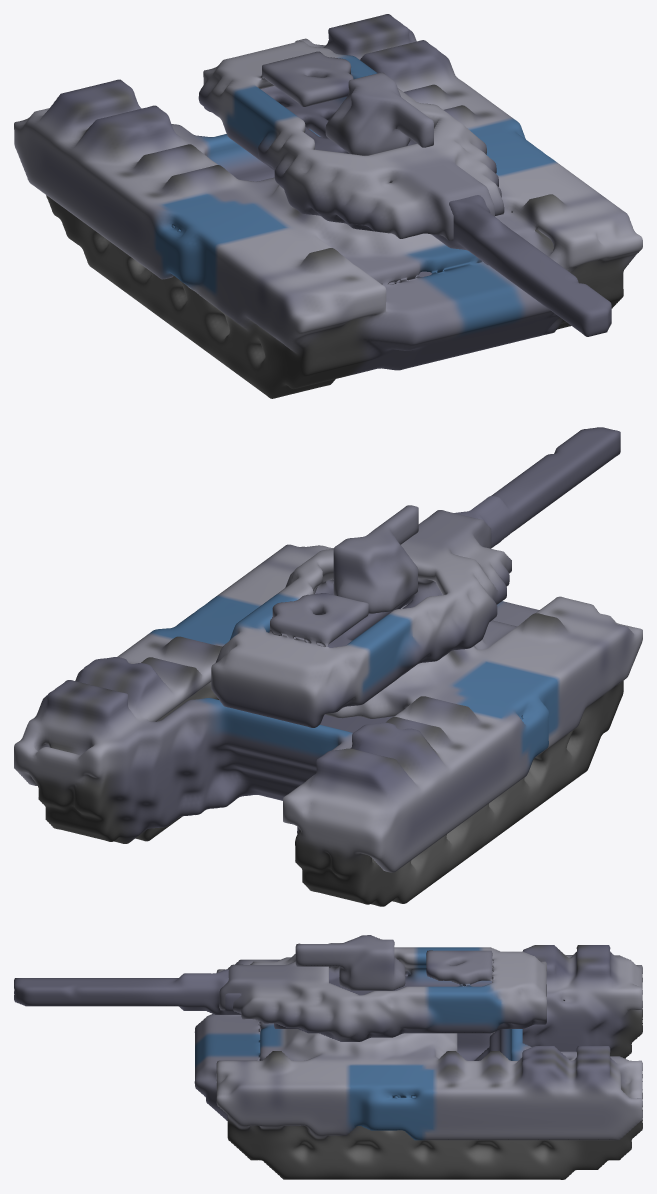
Rendered from grizzly_tank.glb.
3 views of the same model, one above another, from view 1: azimuth 30°, elevation 25°; view 2: azimuth 150°, elevation 25°; view 3: azimuth 270°, elevation 25° (orthographic). The views are drawn at different scales.
Parts seen in each view (by area): view 1: grizzly_tank; view 2: grizzly_tank; view 3: grizzly_tank.
Boxes of the visible parts, left/top/right/bottom form: grizzly_tank: left=14, top=14, right=642, bottom=398; grizzly_tank: left=14, top=427, right=642, bottom=906; grizzly_tank: left=14, top=935, right=642, bottom=1179.
Size of the model in its own units: 2.49 by 1.5 by 4.79.
